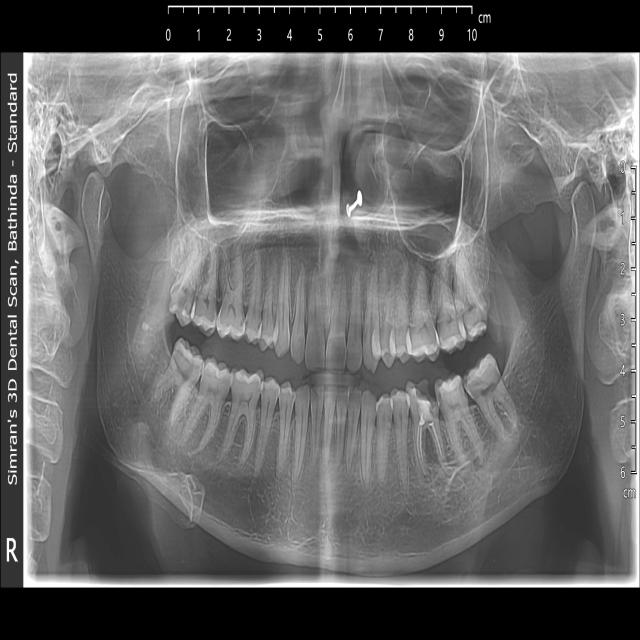Caries: (464, 352, 500, 403), (433, 375, 471, 418), (165, 274, 194, 330), (412, 379, 439, 406)
Filling: (456, 299, 488, 341), (435, 319, 465, 353)
Root Canal Treatment: (405, 382, 449, 485)
